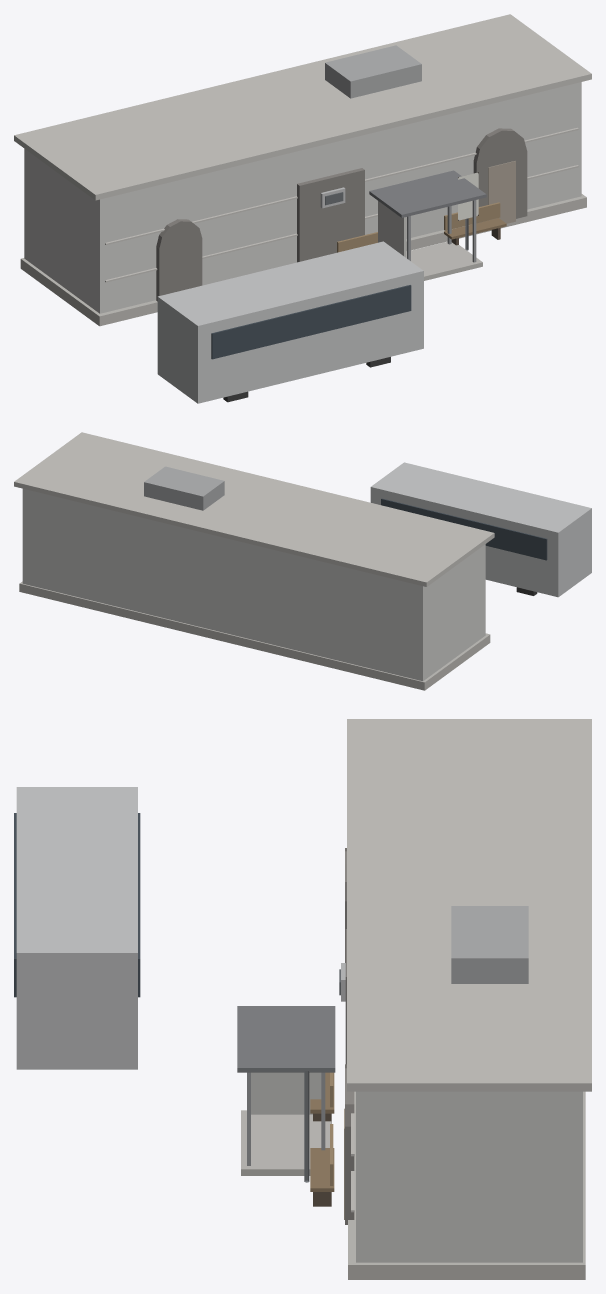
File: ora_busstation.glb
3 views of the same model, one above another, from view 1: azimuth 30°, elevation 25°; view 2: azimuth 150°, elevation 25°; view 3: azimuth 270°, elevation 25° (orthographic). The views are drawn at different scales.
Parts seen in each view (by area): view 1: ora_busstation_lod0; view 2: ora_busstation_lod0; view 3: ora_busstation_lod0.
Boxes of the visible parts, <box> form: ora_busstation_lod0: <box>14,14,591,403</box>; ora_busstation_lod0: <box>14,432,591,690</box>; ora_busstation_lod0: <box>14,719,591,1279</box>.
Size of the model in its own units: 16.95 by 4.82 by 11.2.
2 materials, 1 textured.
